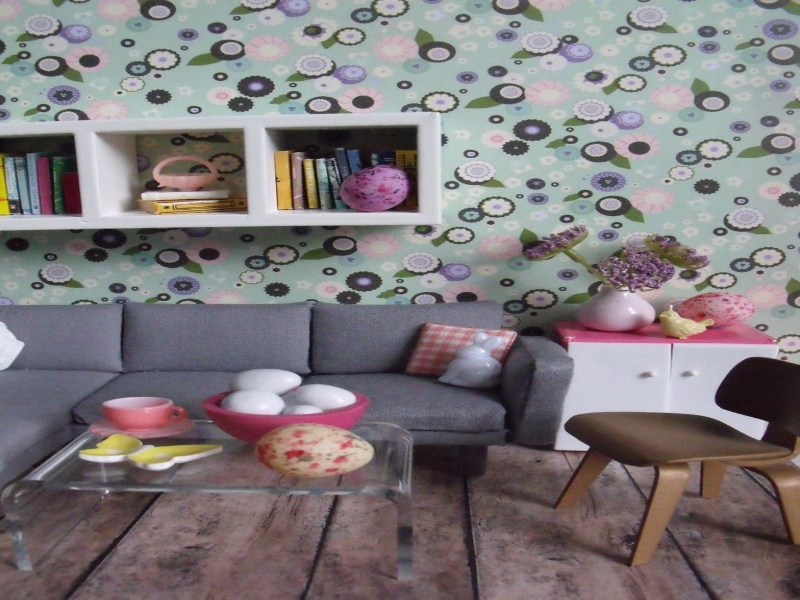book: (269, 146, 336, 210), (24, 152, 63, 214)
chair: (574, 350, 800, 565)
couch: (1, 299, 567, 487)
cup: (82, 392, 185, 433)
